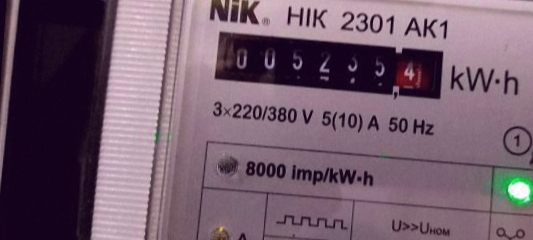0: (233, 44, 251, 71), (263, 44, 278, 70)
2: (317, 47, 333, 73)
3: (346, 47, 361, 73)
4: (402, 55, 419, 82)
5: (372, 50, 389, 78), (289, 45, 306, 72)
screen: (205, 21, 457, 107)
